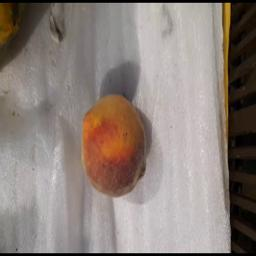Peach Fresh: (67, 82, 155, 205)
